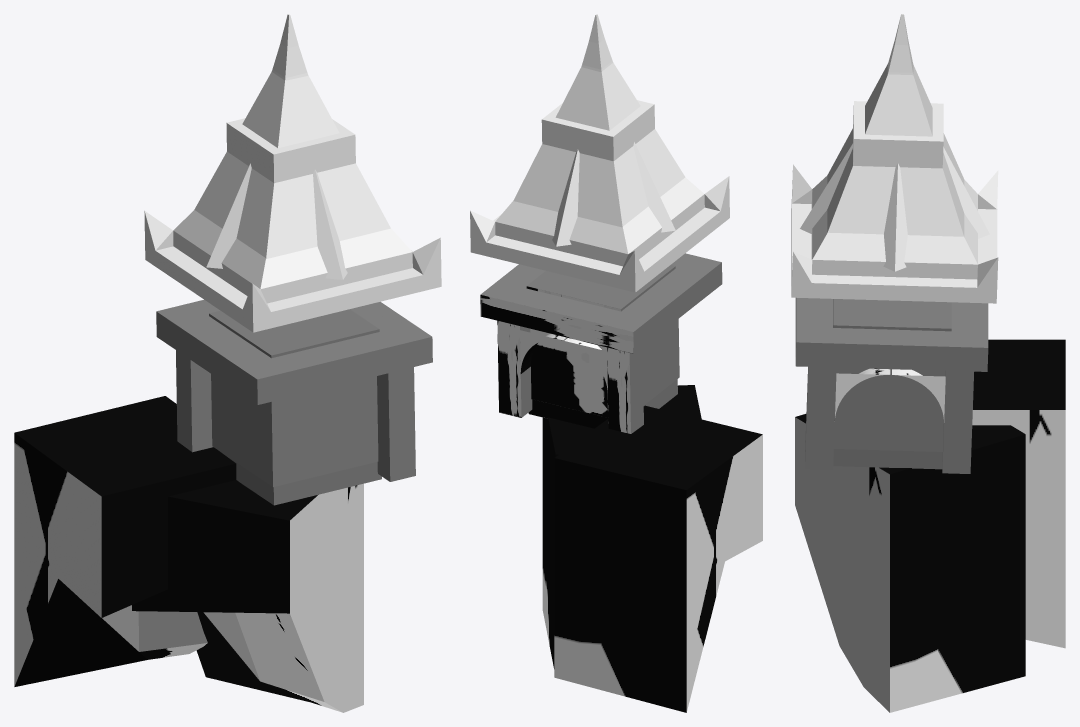
The model's file is Bottom Tower (5).fbx.
3 views of the same model, side by side, from view 1: azimuth 30°, elevation 25°; view 2: azimuth 150°, elevation 25°; view 3: azimuth 270°, elevation 25° (orthographic). The views are drawn at different scales.
Parts seen in each view (by area): view 1: Bottom_Tower_Chipped (1) (×2), Rooftop_Curved_01 (8), Windows_Stepped (9), Windows_Stepped (10), Windows_Stepped (8), Windows_Stepped (2), Windows_Stepped; view 2: Bottom_Tower_Chipped (1) (×2), Rooftop_Curved_01 (8), Windows_Stepped (9), Windows_Stepped (10), Windows_Stepped (8), Windows_Stepped, Windows_Stepped (1), Windows_Stepped (6), Windows_Stepped (7); view 3: Bottom_Tower_Chipped (1) (×2), Rooftop_Curved_01 (8), Windows_Stepped (9), Windows_Stepped (10), Windows_Stepped (8), Windows_Stepped (2), Windows_Stepped (1), Windows_Stepped (4), Windows_Stepped (5).
Boxes of the visible parts, bbox=[...] form: Bottom_Tower_Chipped (1) (×2): bbox=[14, 396, 363, 712]; Rooftop_Curved_01 (8): bbox=[144, 14, 441, 332]; Windows_Stepped (9): bbox=[156, 299, 432, 404]; Windows_Stepped (10): bbox=[211, 374, 378, 486]; Windows_Stepped (8): bbox=[209, 309, 381, 505]; Windows_Stepped (2): bbox=[377, 367, 415, 481]; Windows_Stepped: bbox=[176, 350, 212, 452]; Bottom_Tower_Chipped (1) (×2): bbox=[542, 385, 762, 712]; Rooftop_Curved_01 (8): bbox=[470, 14, 729, 292]; Windows_Stepped (9): bbox=[480, 253, 722, 353]; Windows_Stepped (10): bbox=[530, 319, 679, 417]; Windows_Stepped (8): bbox=[526, 265, 677, 428]; Windows_Stepped: bbox=[607, 347, 643, 433]; Windows_Stepped (1): bbox=[497, 320, 532, 417]; Windows_Stepped (6): bbox=[520, 330, 566, 373]; Windows_Stepped (7): bbox=[564, 338, 607, 392]; Bottom_Tower_Chipped (1) (×2): bbox=[795, 339, 1065, 712]; Rooftop_Curved_01 (8): bbox=[791, 14, 998, 303]; Windows_Stepped (9): bbox=[795, 297, 988, 371]; Windows_Stepped (10): bbox=[833, 367, 945, 451]; Windows_Stepped (8): bbox=[833, 299, 951, 469]; Windows_Stepped (2): bbox=[805, 367, 836, 469]; Windows_Stepped (1): bbox=[942, 370, 973, 473]; Windows_Stepped (4): bbox=[834, 368, 890, 421]; Windows_Stepped (5): bbox=[892, 369, 945, 422].
Size of what is drawn, in the model's own units: 3.75 by 8.93 by 3.31.
